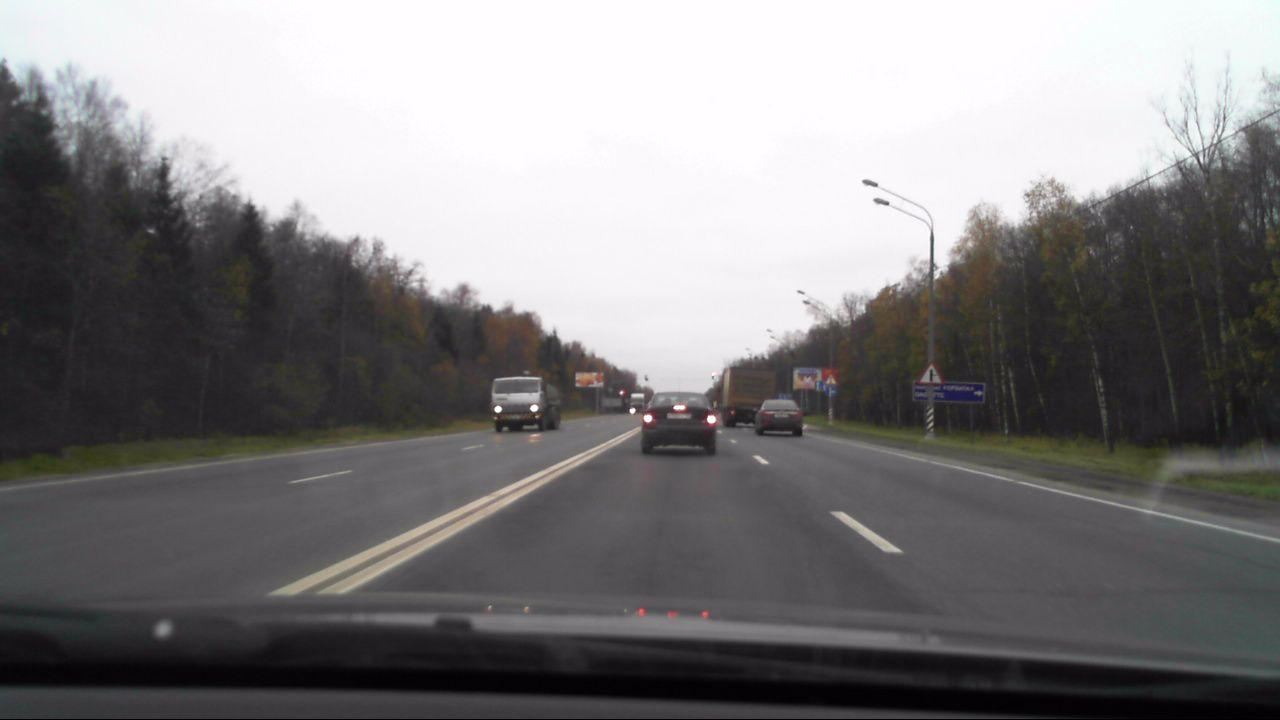2_3_2: (917, 362, 944, 385)
